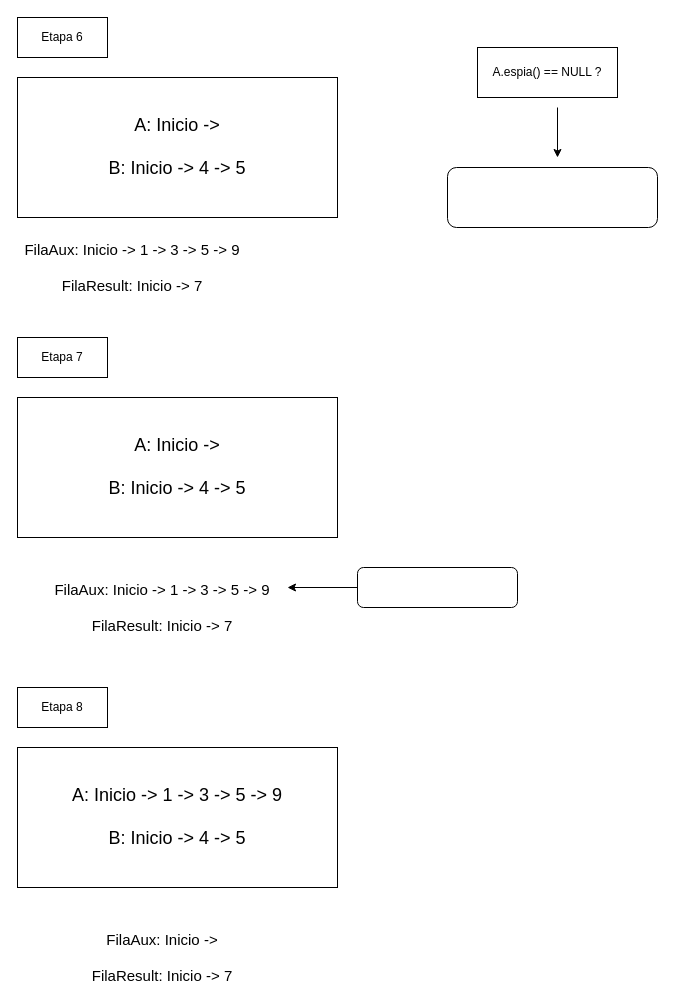
This 675x1005 diagram has some shape labels left out. Here are the shapes that lost their labels. From the top down, the centre of each, then its label:
point 552,197: B.desenfileirar()
point 437,587: Copy para a fila A
